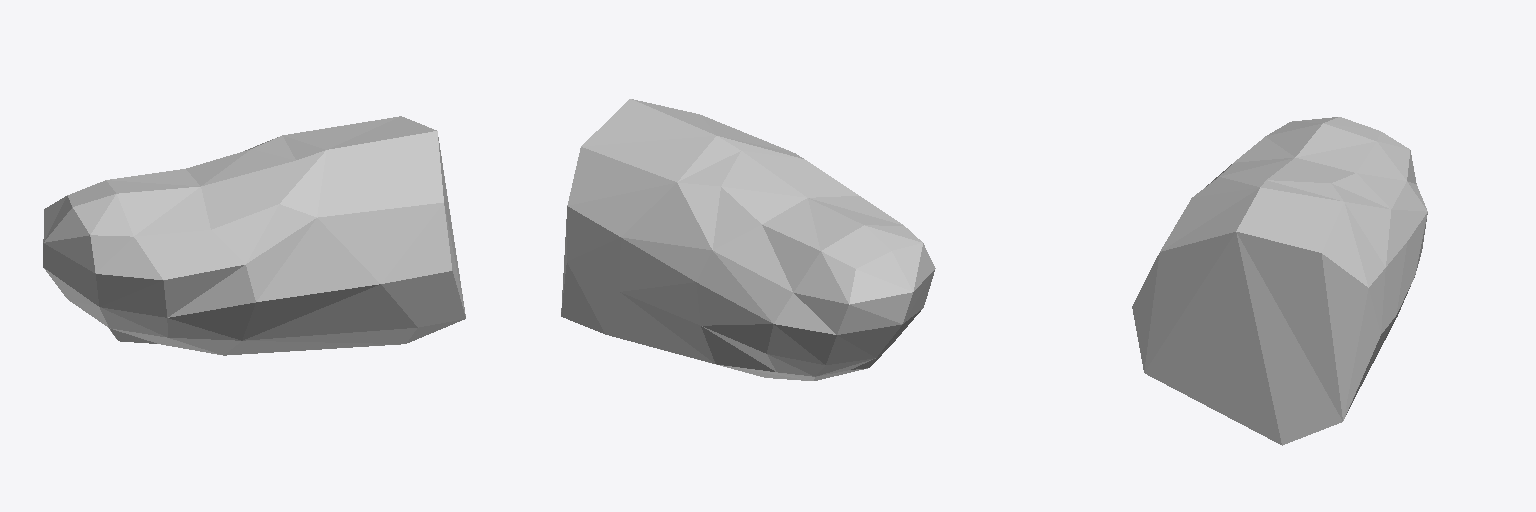
File: index3.obj
3 renders of one model, left to right at view 1: azimuth 30°, elevation 25°; view 2: azimuth 150°, elevation 25°; view 3: azimuth 270°, elevation 25°, orthographic.
Bounding box in the file's own units: 27.3 × 14.91 × 19.54.